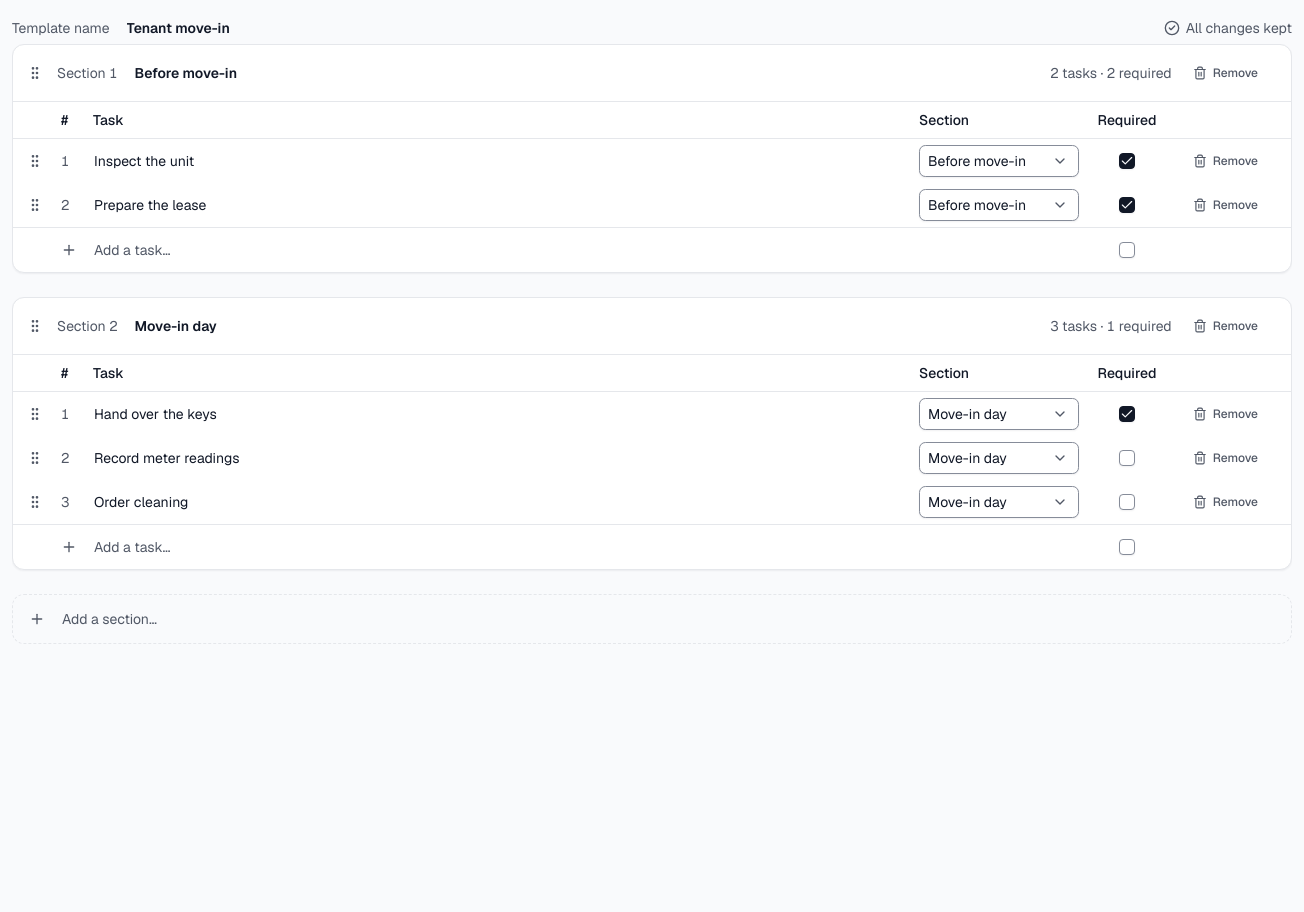
Test: template editor in the browser › AC-EDITOR-25: паралельна зміна, збережена пізніше, не ховає «Your last change was not kept. Try again.»
Type "Check smoke alarms" into the field named "New task in Before move-in" at {"x": 498, "y": 250}, box [85, 234, 911, 266]
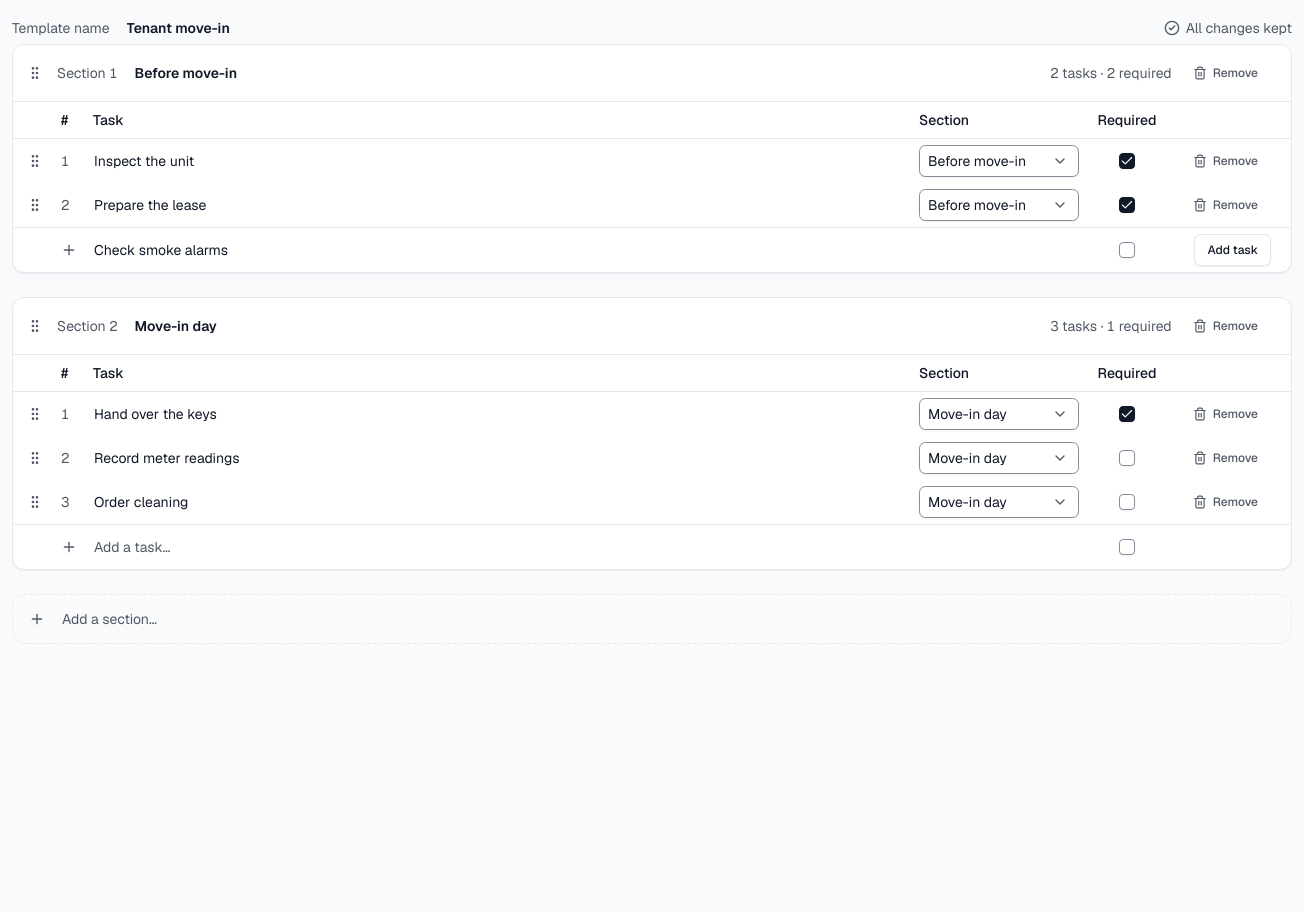
Submit the form named "New task in Before move-in", box [13, 227, 1291, 272]
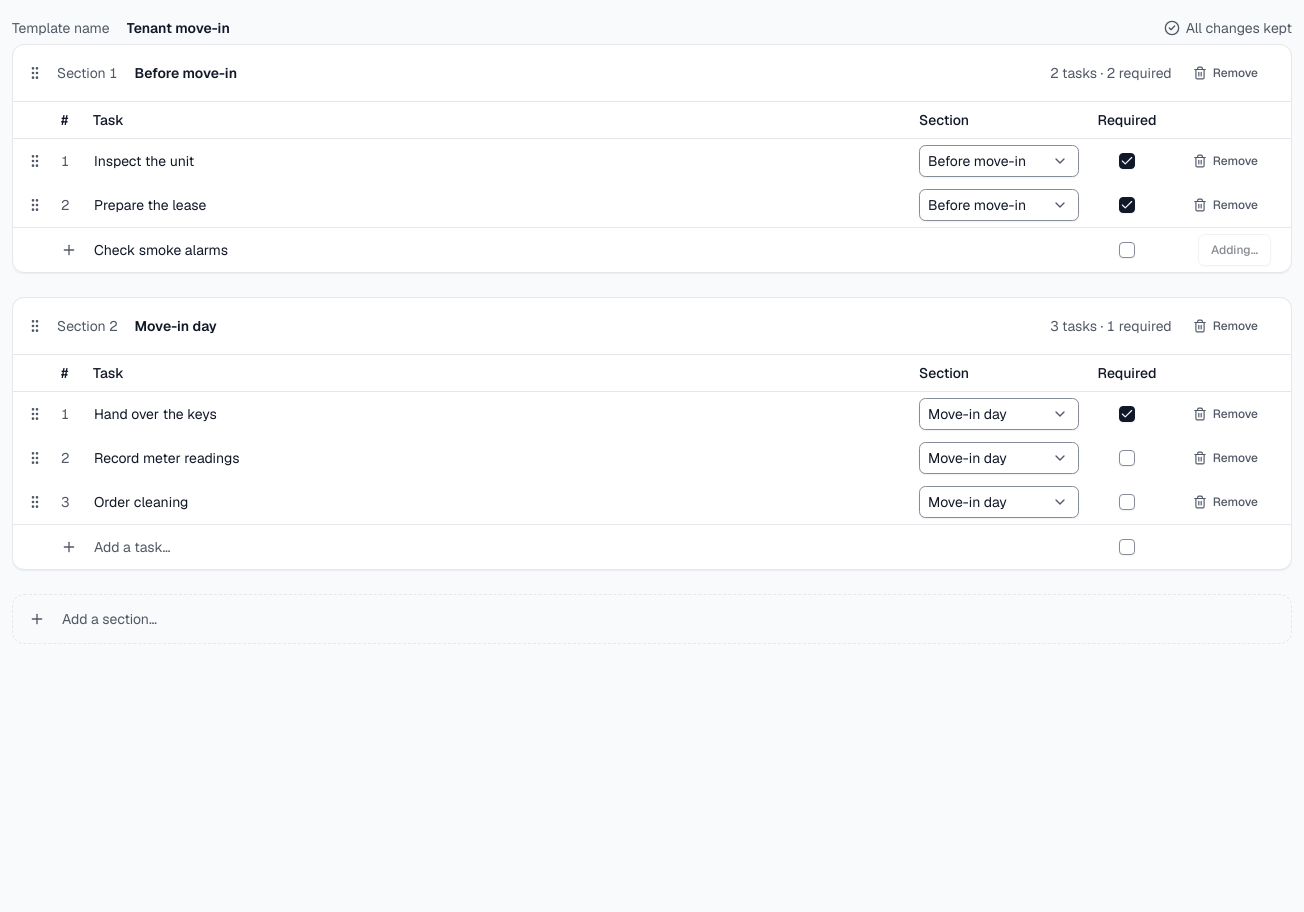
Type "Sign handover act" into the field named "New task in Move-in day" at {"x": 498, "y": 547}, box [85, 531, 911, 563]
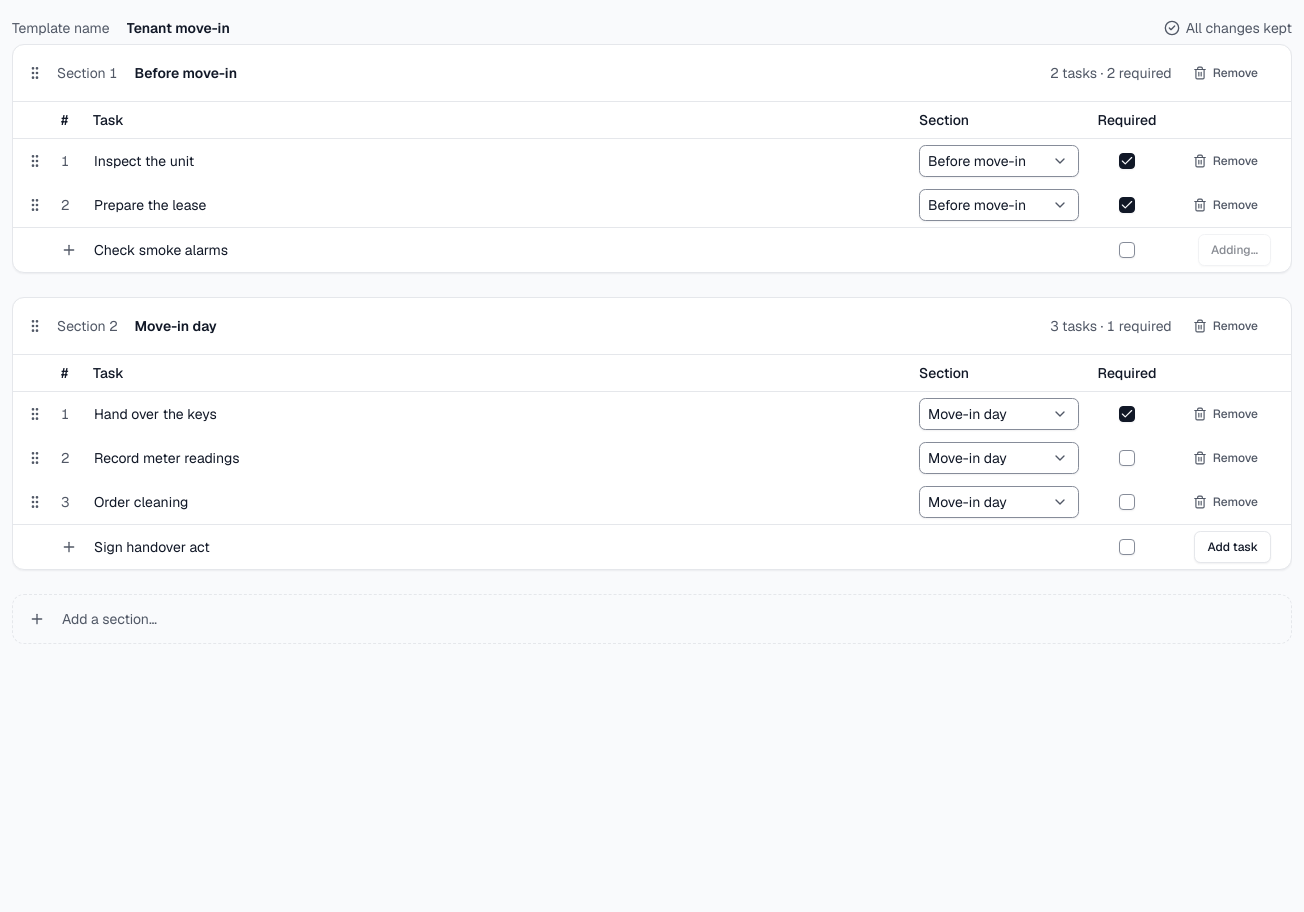
Submit the form named "New task in Move-in day", box [13, 524, 1291, 569]
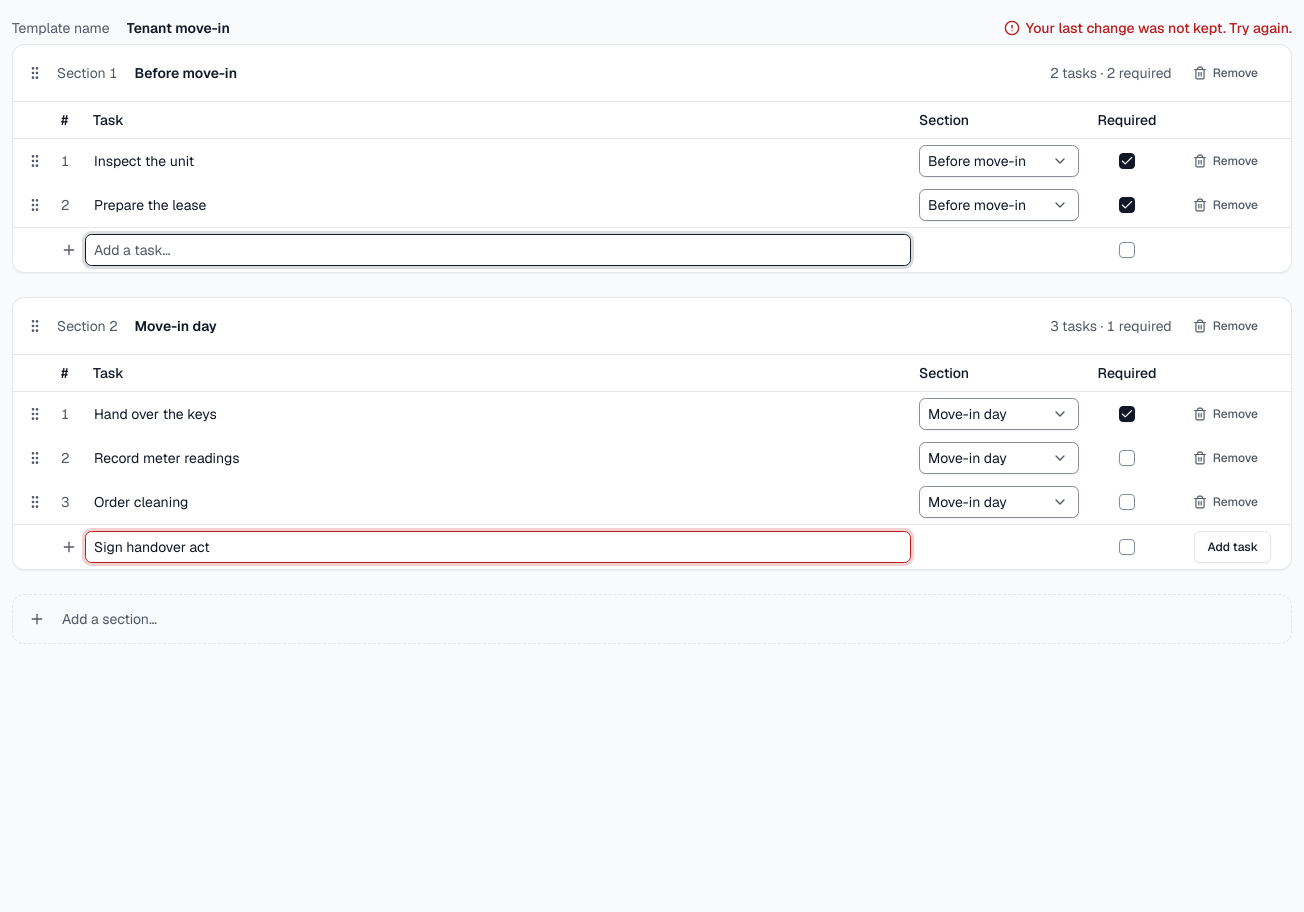
expect the message with test id "keep-status" reads "Your last change was not kept. Try again.": met, box [1026, 19, 1292, 37]
